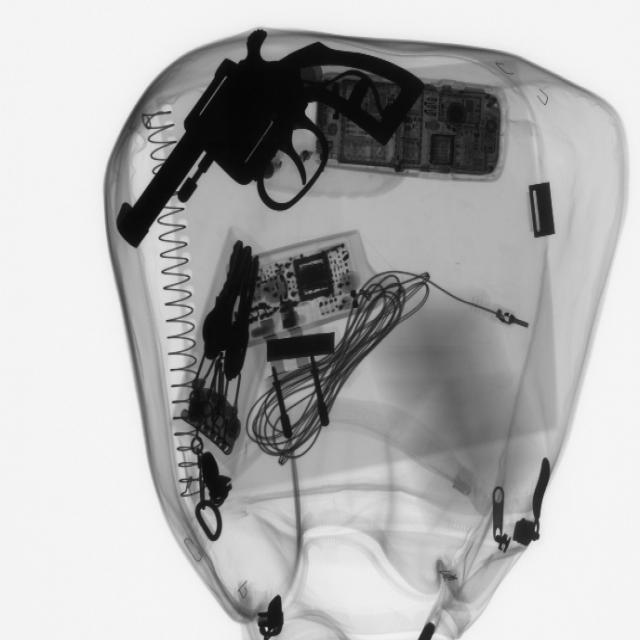GUN: (111, 26, 422, 270)
